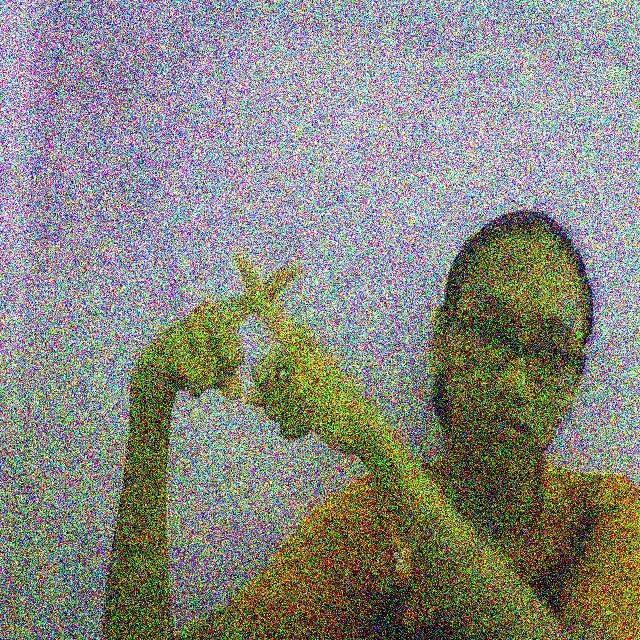X: (161, 238, 339, 411)
